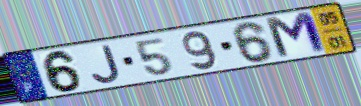5: (132, 35, 177, 76)
6: (41, 48, 87, 94), (231, 20, 276, 64)
9: (181, 29, 219, 71)
J: (89, 43, 124, 85)
M: (262, 9, 331, 61)
